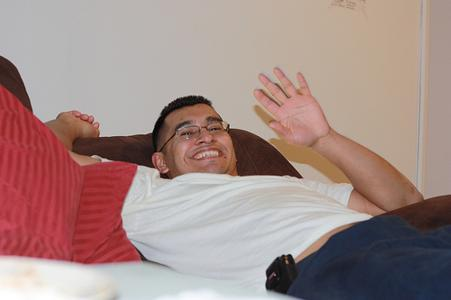person: (41, 67, 451, 300)
